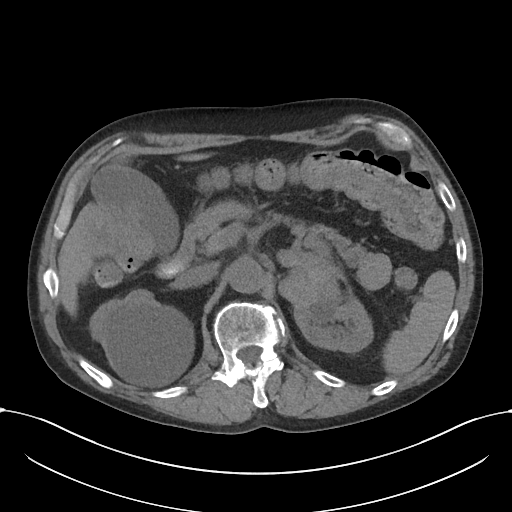Lesion: (97, 300, 195, 390)
